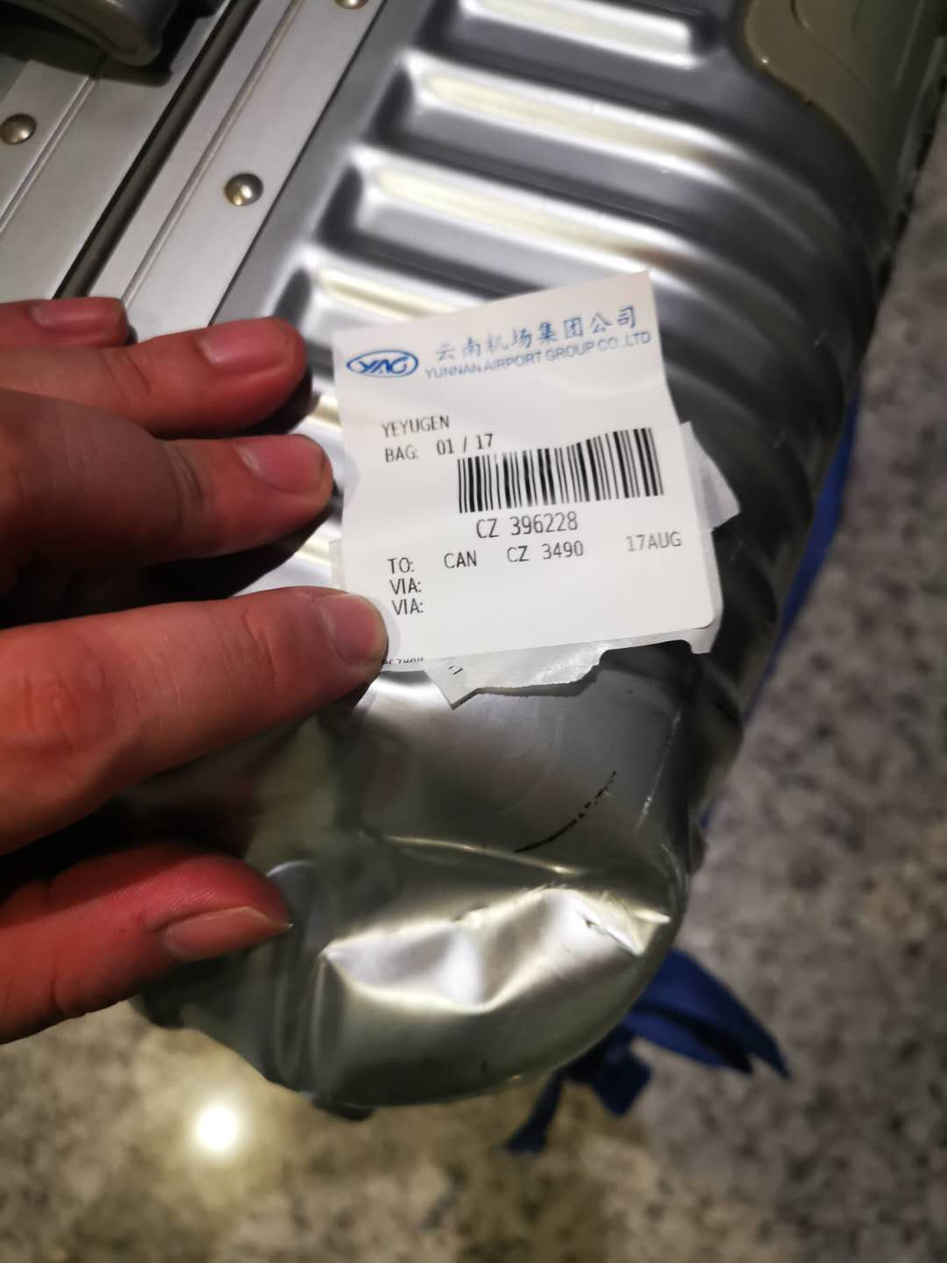rupture: (231, 706, 683, 1024)
